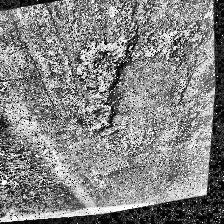pothole: (65, 33, 139, 105), (67, 98, 125, 146)
